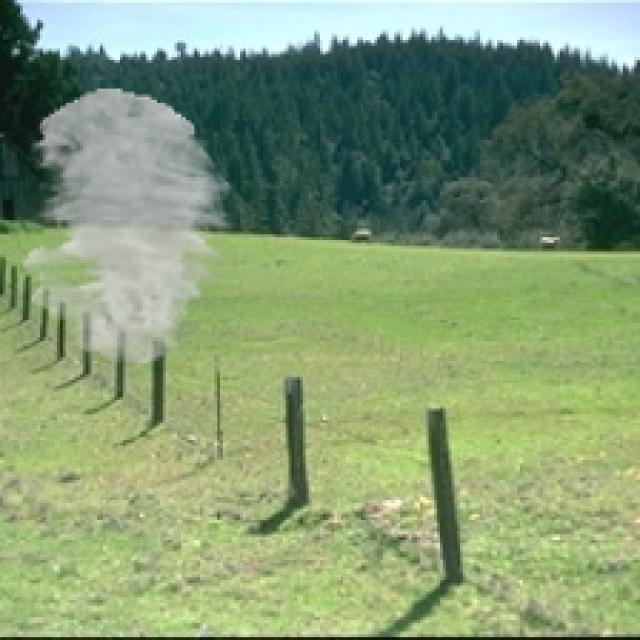smoke: (23, 88, 234, 363)
